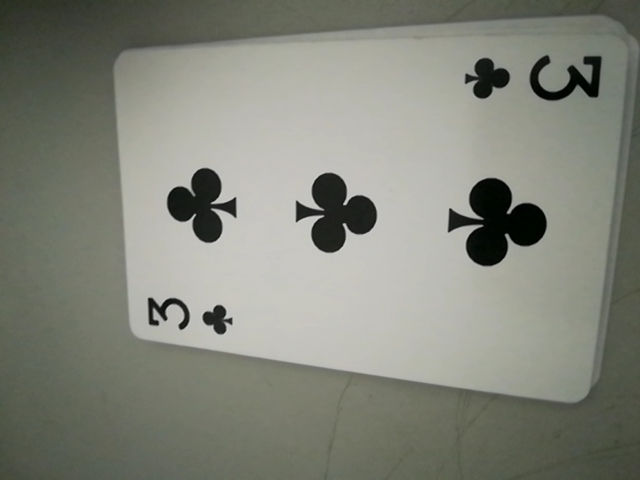mh 3: (463, 45, 601, 111), (140, 290, 240, 342)
